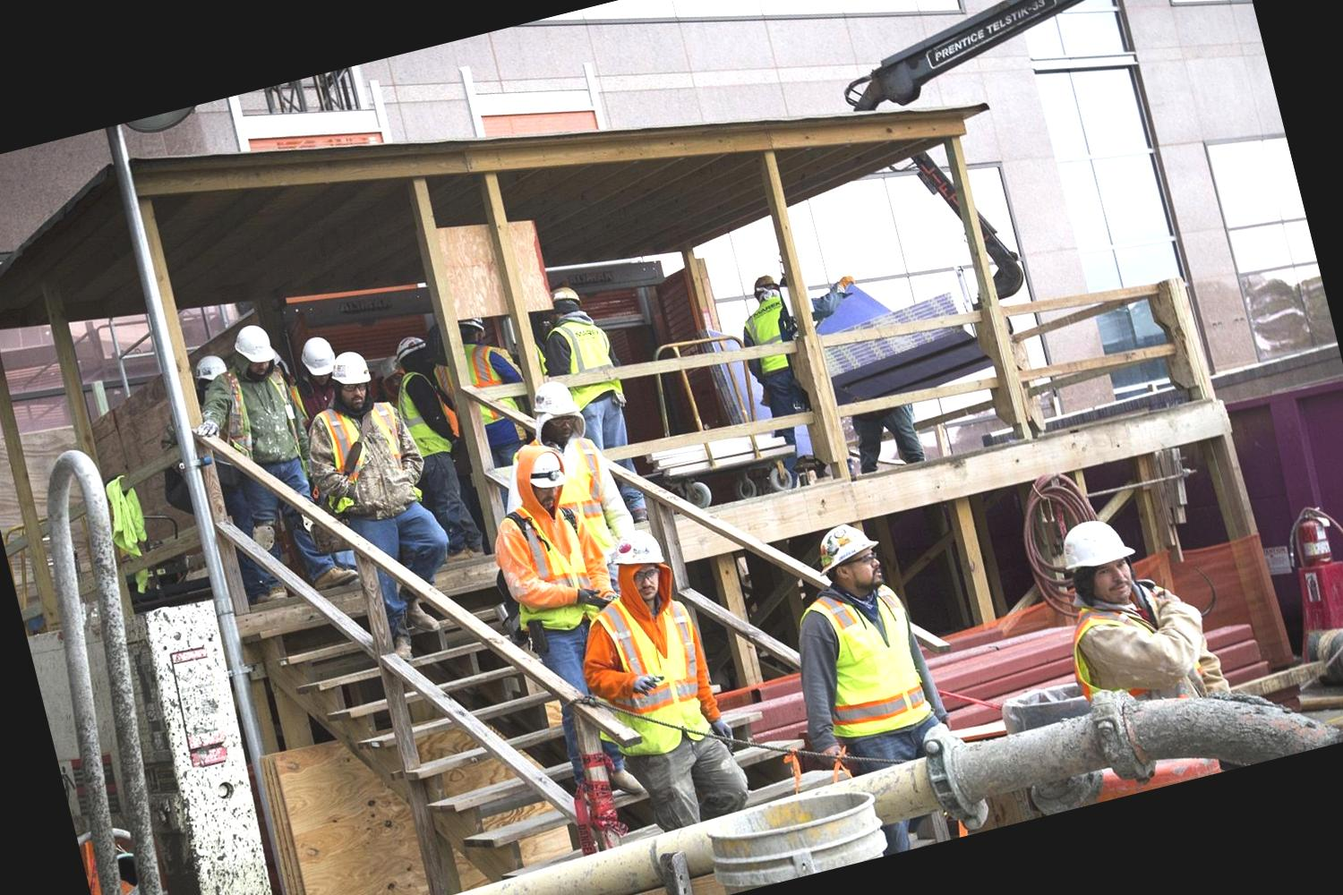helmet: (1044, 497, 1148, 588), (591, 510, 678, 588), (804, 502, 888, 577), (320, 337, 382, 396), (524, 367, 576, 429), (227, 315, 287, 367)
person: (479, 425, 654, 775), (299, 340, 479, 661), (572, 520, 757, 828), (768, 514, 947, 773), (189, 314, 348, 587), (1048, 495, 1238, 722)
